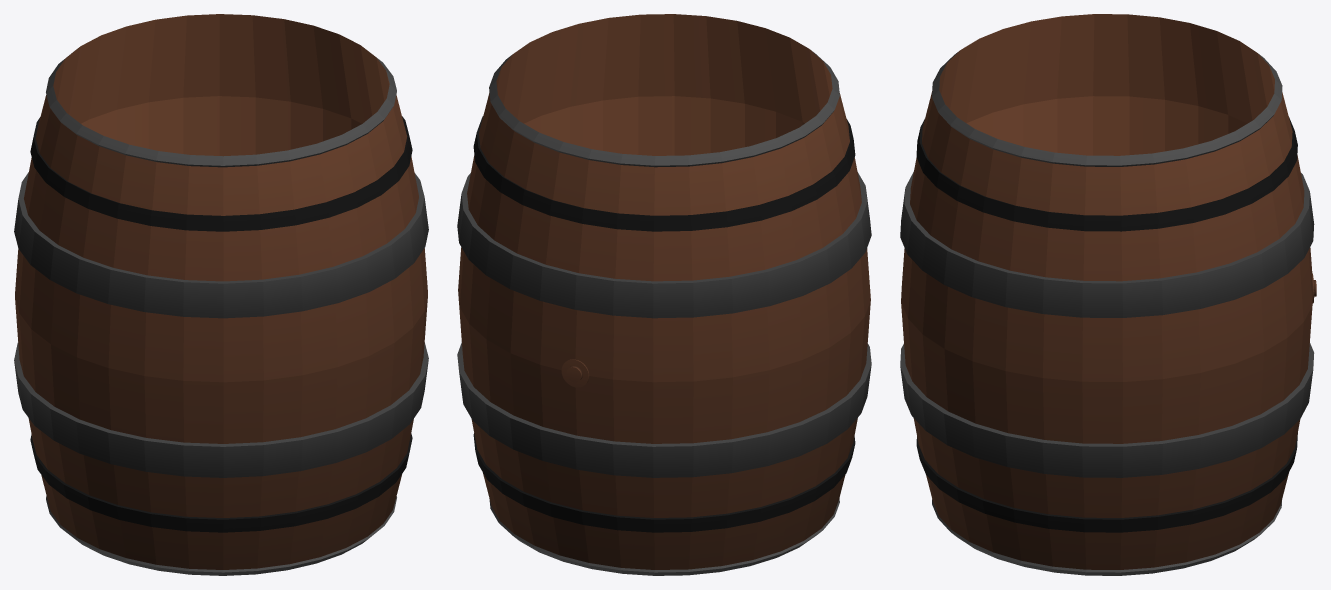
File: Large Dark Open Barrel.fbx
3 renders of one model, left to right at view 1: azimuth 30°, elevation 25°; view 2: azimuth 150°, elevation 25°; view 3: azimuth 270°, elevation 25°, orthographic.
Parts seen in each view (by area): view 1: Large Dark Open Barrel; view 2: Large Dark Open Barrel; view 3: Large Dark Open Barrel.
Part boxes in pixels (<box>): Large Dark Open Barrel: <box>14,14,428,575</box>; Large Dark Open Barrel: <box>457,14,871,575</box>; Large Dark Open Barrel: <box>900,14,1316,575</box>.
Size of the model in its own units: 423 by 380 by 378.
Materials: 1 (1 with a texture image).
